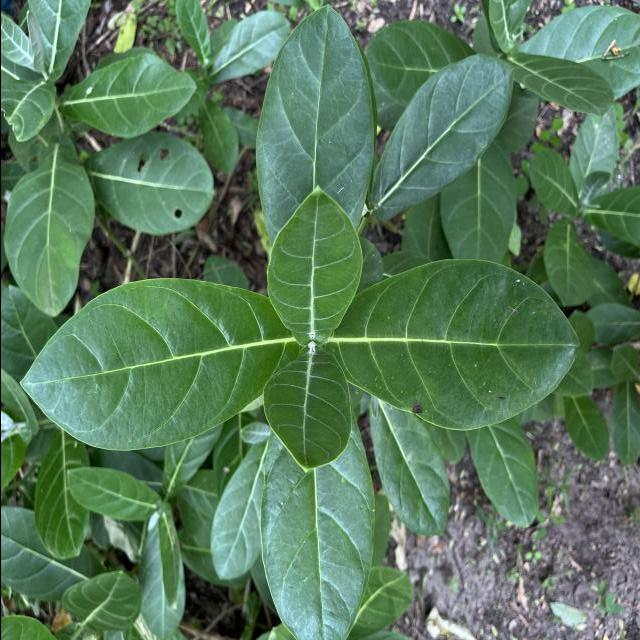Calotropis gigantea: (17, 274, 274, 452), (334, 256, 582, 434), (372, 48, 516, 228), (254, 4, 374, 208), (258, 472, 374, 640), (2, 138, 96, 320), (83, 130, 216, 239), (260, 344, 352, 474), (59, 54, 198, 140), (368, 397, 449, 538), (465, 419, 539, 528)
